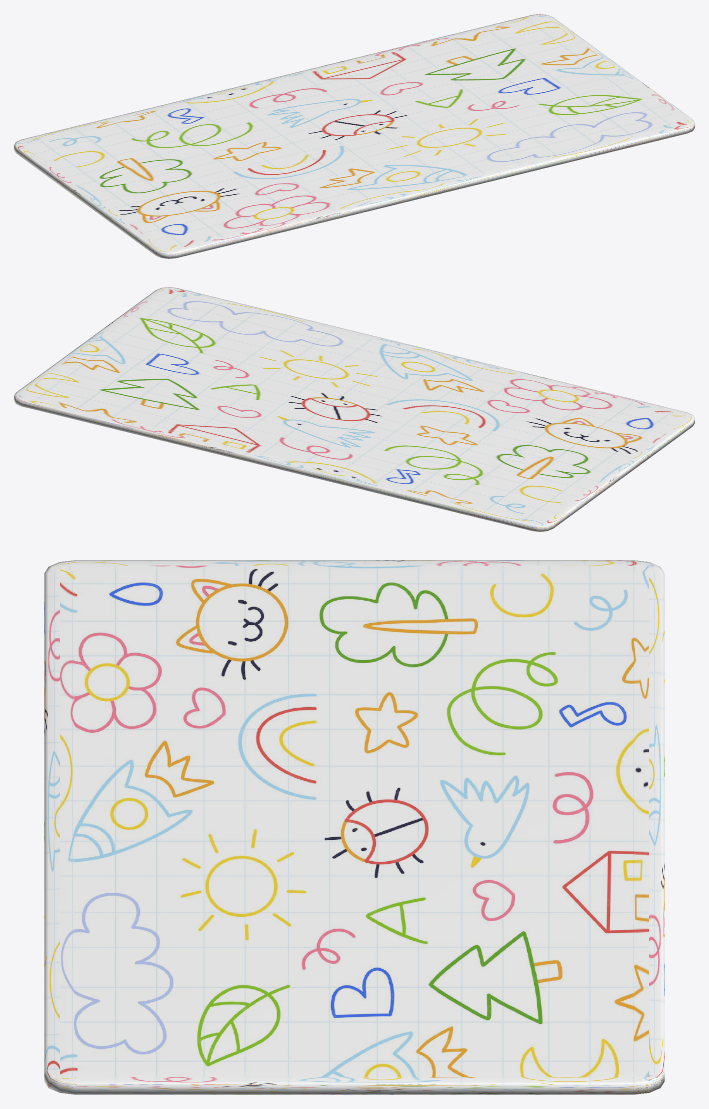
File: Carpet.fbx
3 renders of one model, top to bottom at view 1: azimuth 30°, elevation 25°; view 2: azimuth 150°, elevation 25°; view 3: azimuth 270°, elevation 25°, orthographic. The views are drawn at different scales.
Visible parts, largest first — view 1: Cube; view 2: Cube; view 3: Cube.
Boxes of the visible parts, bbox=[...] form: Cube: bbox=[14, 14, 694, 258]; Cube: bbox=[14, 287, 694, 531]; Cube: bbox=[44, 560, 664, 1094].
Bounding box in the file's own units: 4 × 0.0445 × 2.
1 material, 1 textured.
